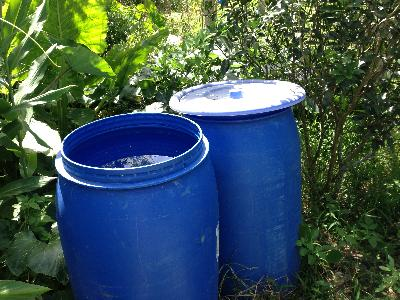bucket: (52, 111, 221, 299), (171, 106, 307, 300)
plate: (166, 77, 307, 117)
